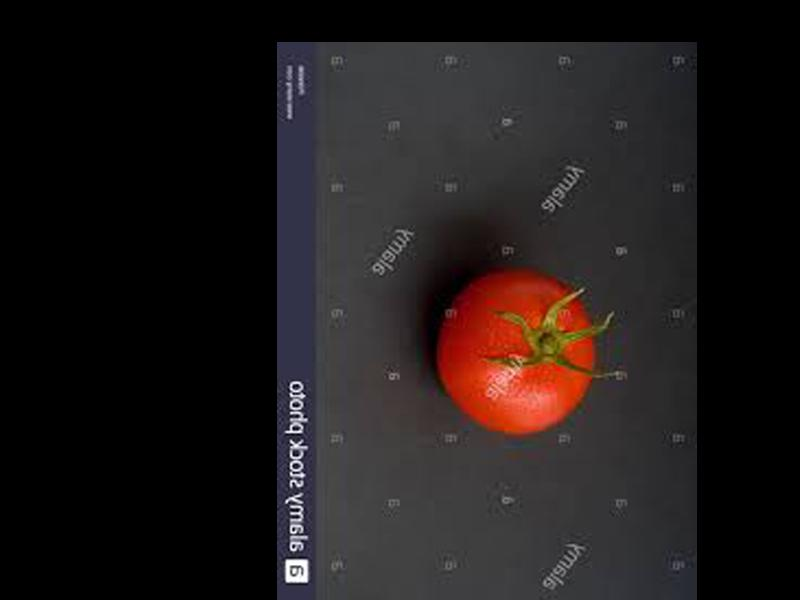Tomato: (442, 268, 596, 434)
